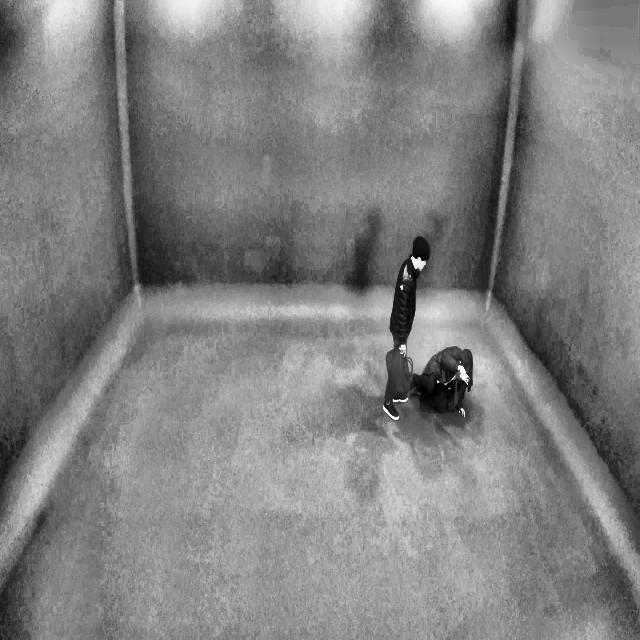assult: (383, 224, 480, 430), (408, 334, 474, 424)
